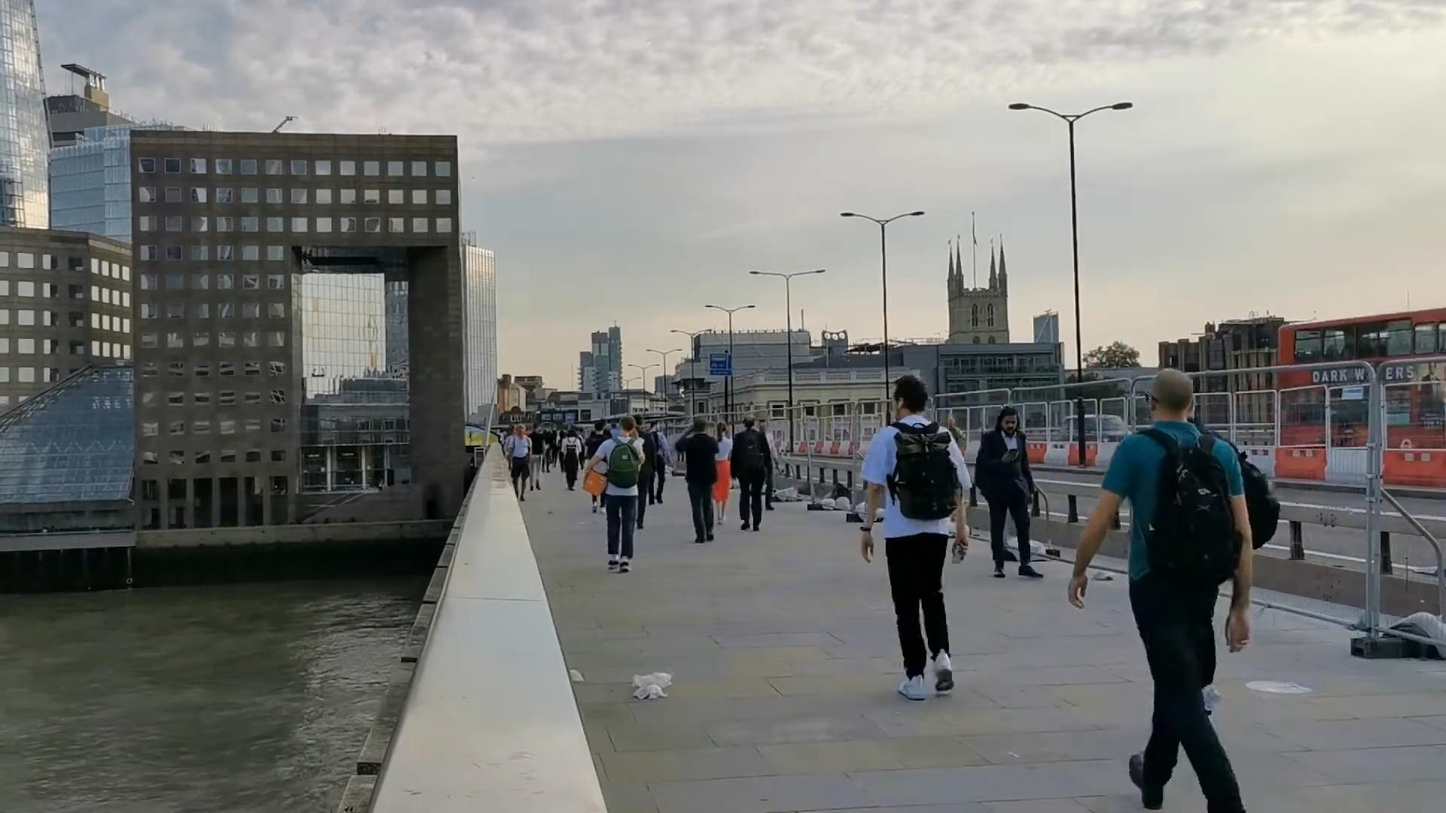no-helmet: (1143, 369, 1196, 424), (890, 374, 928, 422), (995, 405, 1020, 439), (619, 415, 636, 436), (715, 420, 727, 441), (693, 417, 707, 434), (743, 415, 757, 429), (594, 423, 604, 434)
